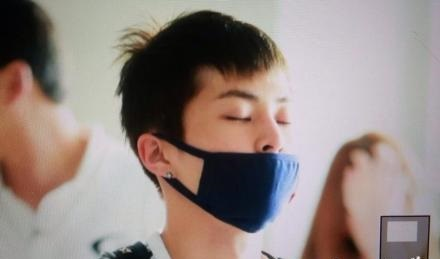face_mask: (174, 61, 299, 232)
